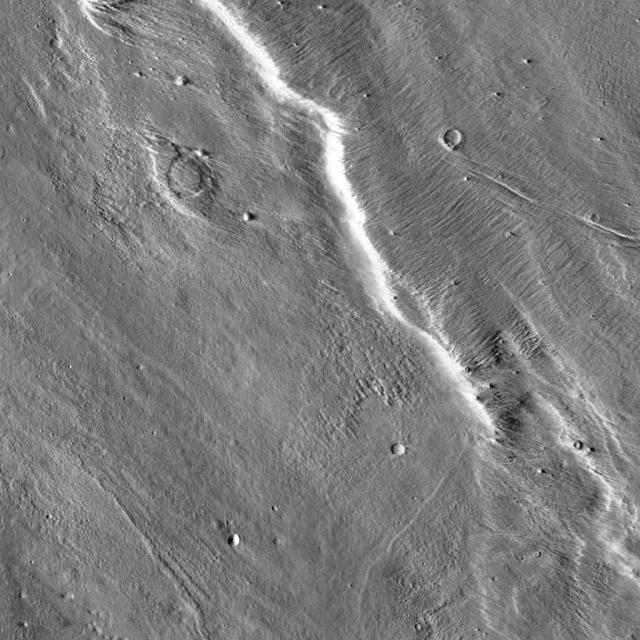crater: (166, 154, 210, 198), (444, 132, 462, 149), (228, 538, 240, 550), (393, 445, 405, 457), (589, 215, 598, 224), (273, 533, 281, 541), (136, 358, 143, 366)
